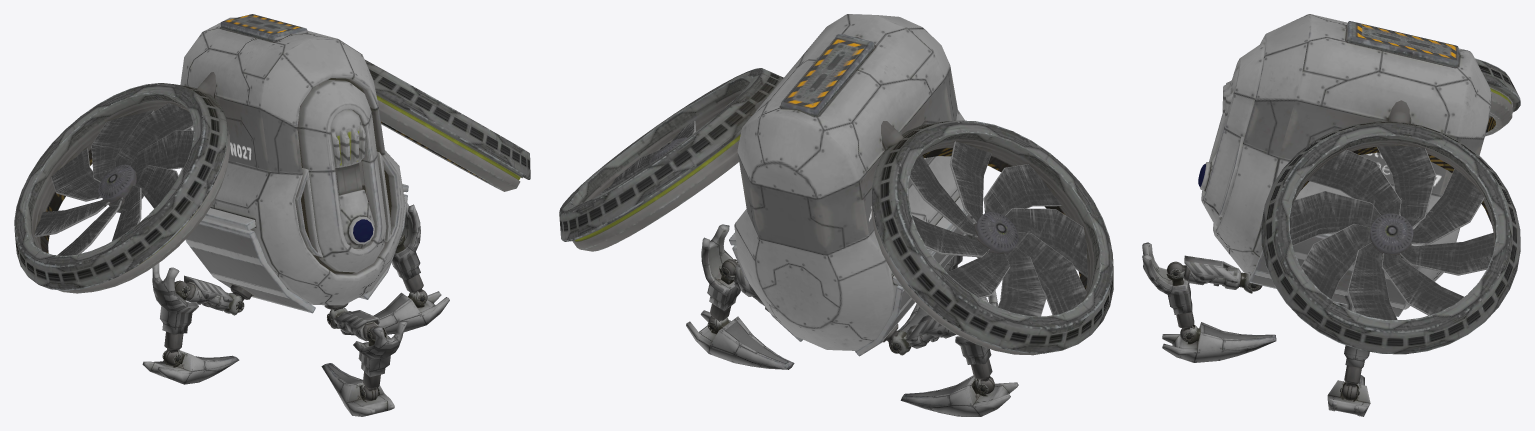
File: drone.glb
3 views of the same model, side by side, from view 1: azimuth 30°, elevation 25°; view 2: azimuth 150°, elevation 25°; view 3: azimuth 270°, elevation 25° (orthographic). The views are drawn at different scales.
Visible parts, largest first — view 1: Drone_Body, Drone_Turb_M_R, Drone_Turb_Blade_R, Drone_Turb_M_L, Drone_Panel_R, L_P7, R_P4, R_P7, F_P7, F_P4, L_P4, Drone_UPart (+3 smaller); view 2: Drone_Body, Drone_Turb_M_R, Drone_Turb_Blade_R, Drone_Turb_M_L, Drone_UPart, L_P7, R_P7, L_P4, R_P2, Drone_Panel_R, Drone_Turb_Blade_L, R_P4; view 3: Drone_Body, Drone_Turb_Blade_L, Drone_Turb_M_L, F_P7, Drone_UPart, Drone_Panel_L, Drone_Turb_M_R, F_P2, F_P4, L_P7, L_P4.
Boxes of the visible parts, bbox=[...] form: Drone_Body: bbox=[179, 17, 405, 305]; Drone_Turb_M_R: bbox=[14, 72, 230, 293]; Drone_Turb_Blade_R: bbox=[34, 103, 193, 255]; Drone_Turb_M_L: bbox=[364, 59, 530, 191]; Drone_Panel_R: bbox=[185, 219, 315, 313]; L_P7: bbox=[340, 291, 449, 335]; R_P4: bbox=[152, 263, 198, 334]; R_P7: bbox=[142, 349, 239, 384]; F_P7: bbox=[321, 363, 394, 416]; F_P4: bbox=[353, 320, 408, 377]; L_P4: bbox=[391, 203, 420, 280]; Drone_UPart: bbox=[220, 14, 307, 41]; Drone_Body: bbox=[734, 14, 964, 350]; Drone_Turb_M_R: bbox=[871, 120, 1113, 355]; Drone_Turb_Blade_R: bbox=[909, 141, 1087, 316]; Drone_Turb_M_L: bbox=[559, 68, 783, 251]; Drone_UPart: bbox=[781, 34, 874, 116]; L_P7: bbox=[686, 310, 794, 369]; R_P7: bbox=[900, 375, 1018, 416]; L_P4: bbox=[701, 224, 740, 311]; R_P2: bbox=[889, 315, 956, 355]; Drone_Panel_R: bbox=[855, 211, 974, 356]; Drone_Turb_Blade_L: bbox=[599, 100, 733, 195]; R_P4: bbox=[955, 290, 997, 364]; Drone_Body: bbox=[1198, 14, 1491, 309]; Drone_Turb_Blade_L: bbox=[1289, 146, 1493, 319]; Drone_Turb_M_L: bbox=[1261, 100, 1520, 354]; F_P7: bbox=[1162, 322, 1276, 362]; Drone_UPart: bbox=[1347, 21, 1458, 66]; Drone_Panel_L: bbox=[1248, 234, 1419, 316]; Drone_Turb_M_R: bbox=[1475, 58, 1520, 136]; F_P2: bbox=[1182, 255, 1259, 293]; F_P4: bbox=[1142, 242, 1192, 314]; L_P7: bbox=[1327, 375, 1370, 416]; L_P4: bbox=[1344, 295, 1369, 367].
Size of the model in its own units: 0.9927 by 0.6587 by 0.6733.
2 materials, 2 textured.
